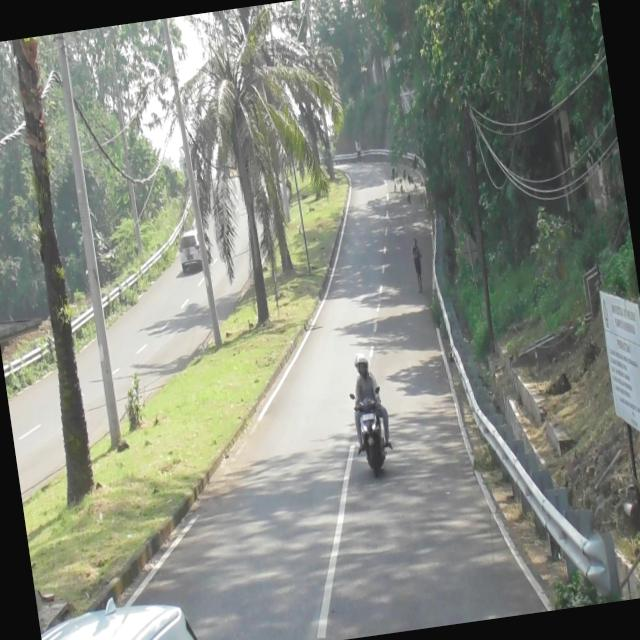motorcycle: (357, 398, 390, 476)
person: (353, 356, 380, 408), (353, 354, 362, 376)
rider_region: (343, 348, 398, 488)
